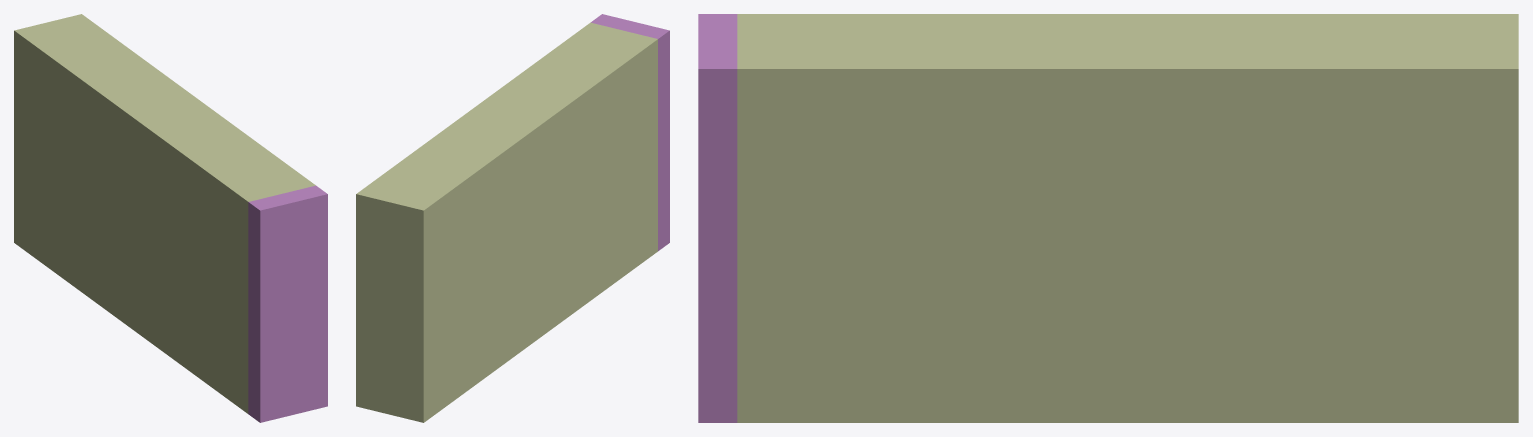
The picture shows the model from 3 angles, left to right: view 1: azimuth 30°, elevation 25°; view 2: azimuth 150°, elevation 25°; view 3: azimuth 270°, elevation 25°; orthographic projection. The views are drawn at different scales.
Parts seen in each view (by area): view 1: part0, part1; view 2: part0, part1; view 3: part0, part1.
Boxes of the visible parts, x1=… form: part0: x1=14, y1=14, x2=315, y2=413; part1: x1=248, y1=185, x2=327, y2=422; part0: x1=356, y1=22, x2=657, y2=422; part1: x1=591, y1=14, x2=669, y2=251; part0: x1=737, y1=14, x2=1518, y2=422; part1: x1=698, y1=14, x2=737, y2=422.
Bounding box in the file's own units: 1 × 3 × 6.3.
